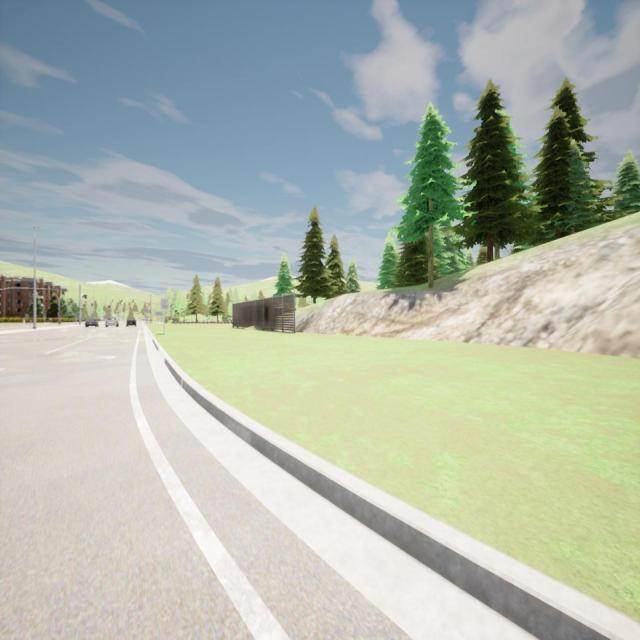Traffic_Signs: (161, 299, 168, 309)
Vehicle: (105, 316, 118, 328), (85, 318, 99, 328), (126, 317, 136, 327)
